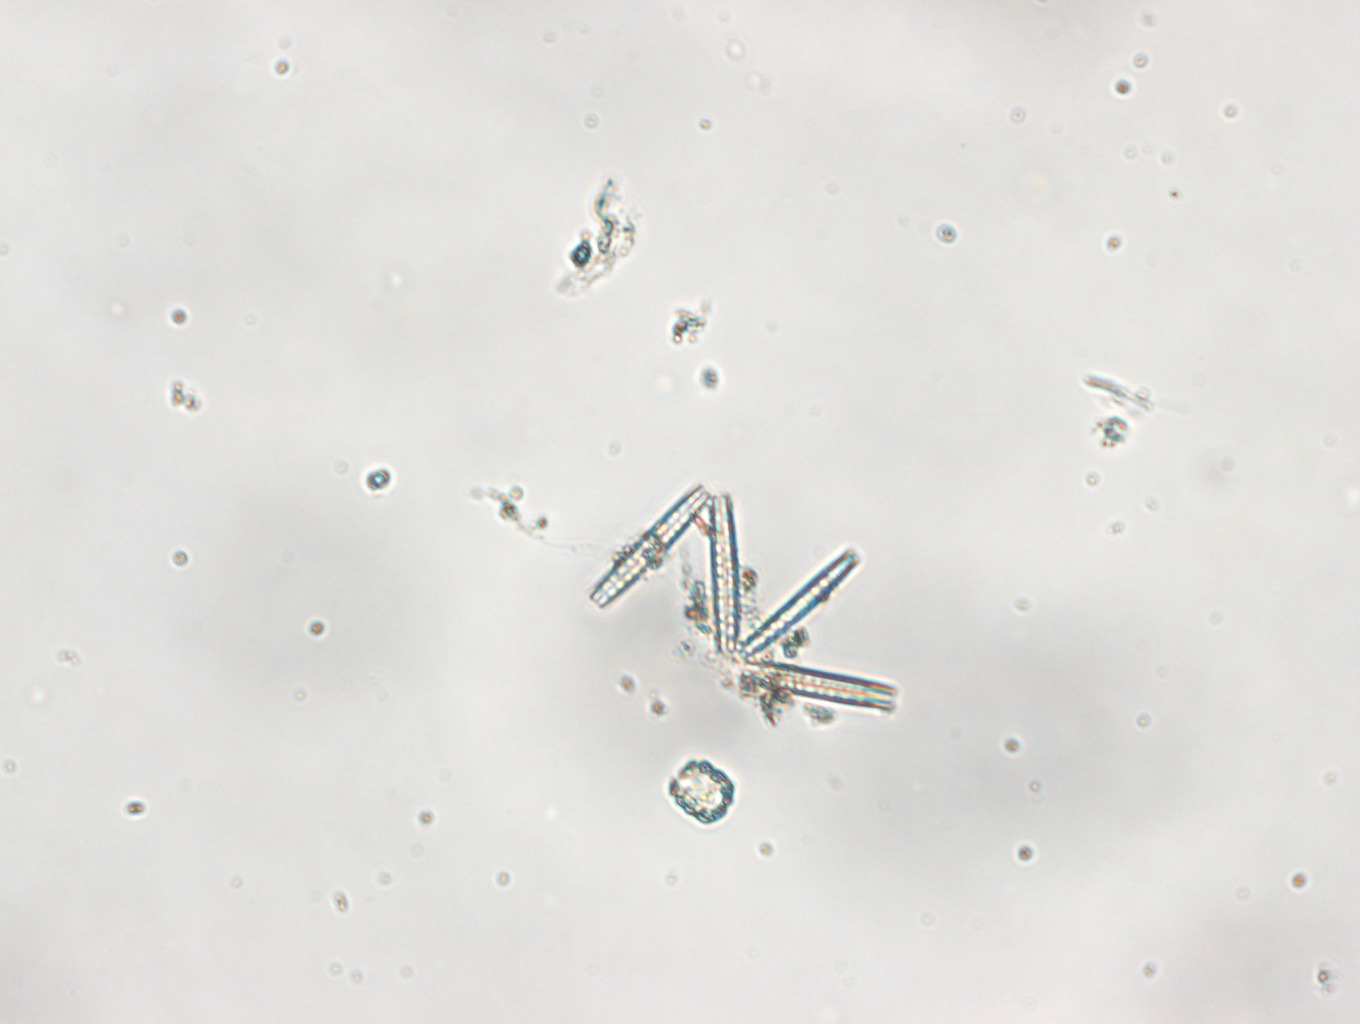thalassionema nitzschioides: (584, 468, 903, 724)
